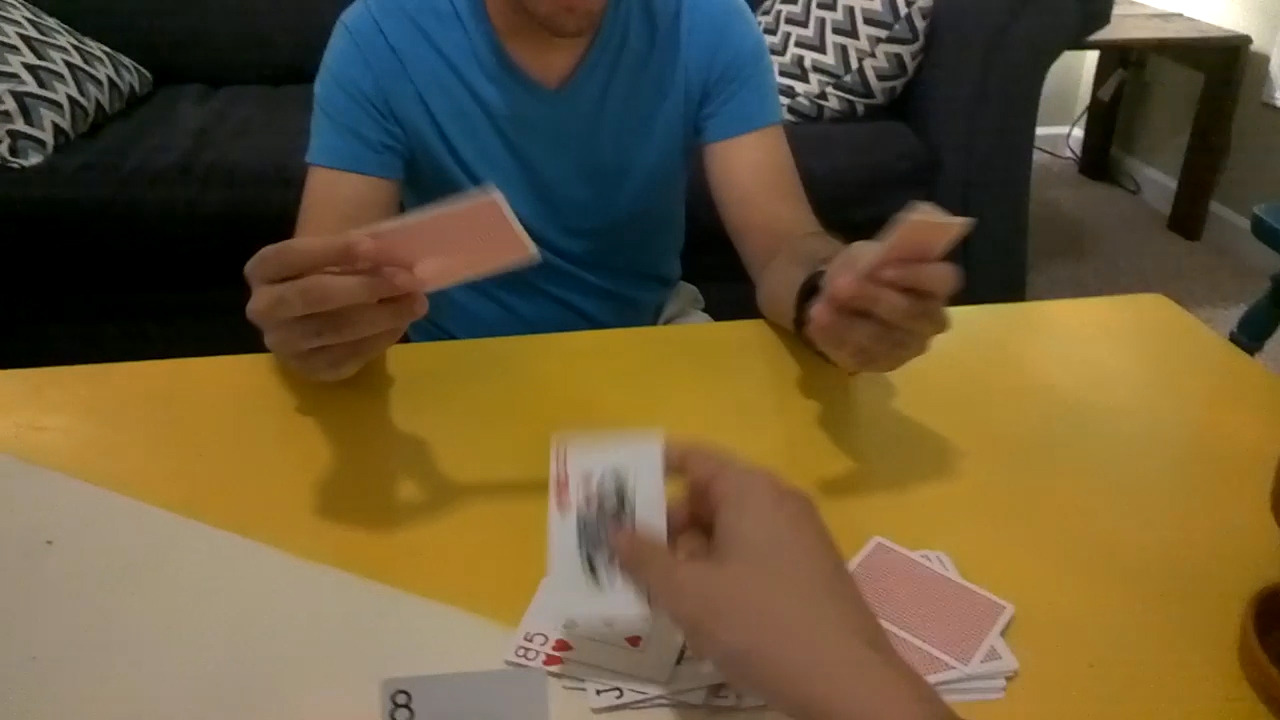hand: (617, 435, 890, 700), (242, 240, 432, 389), (807, 253, 966, 367)
